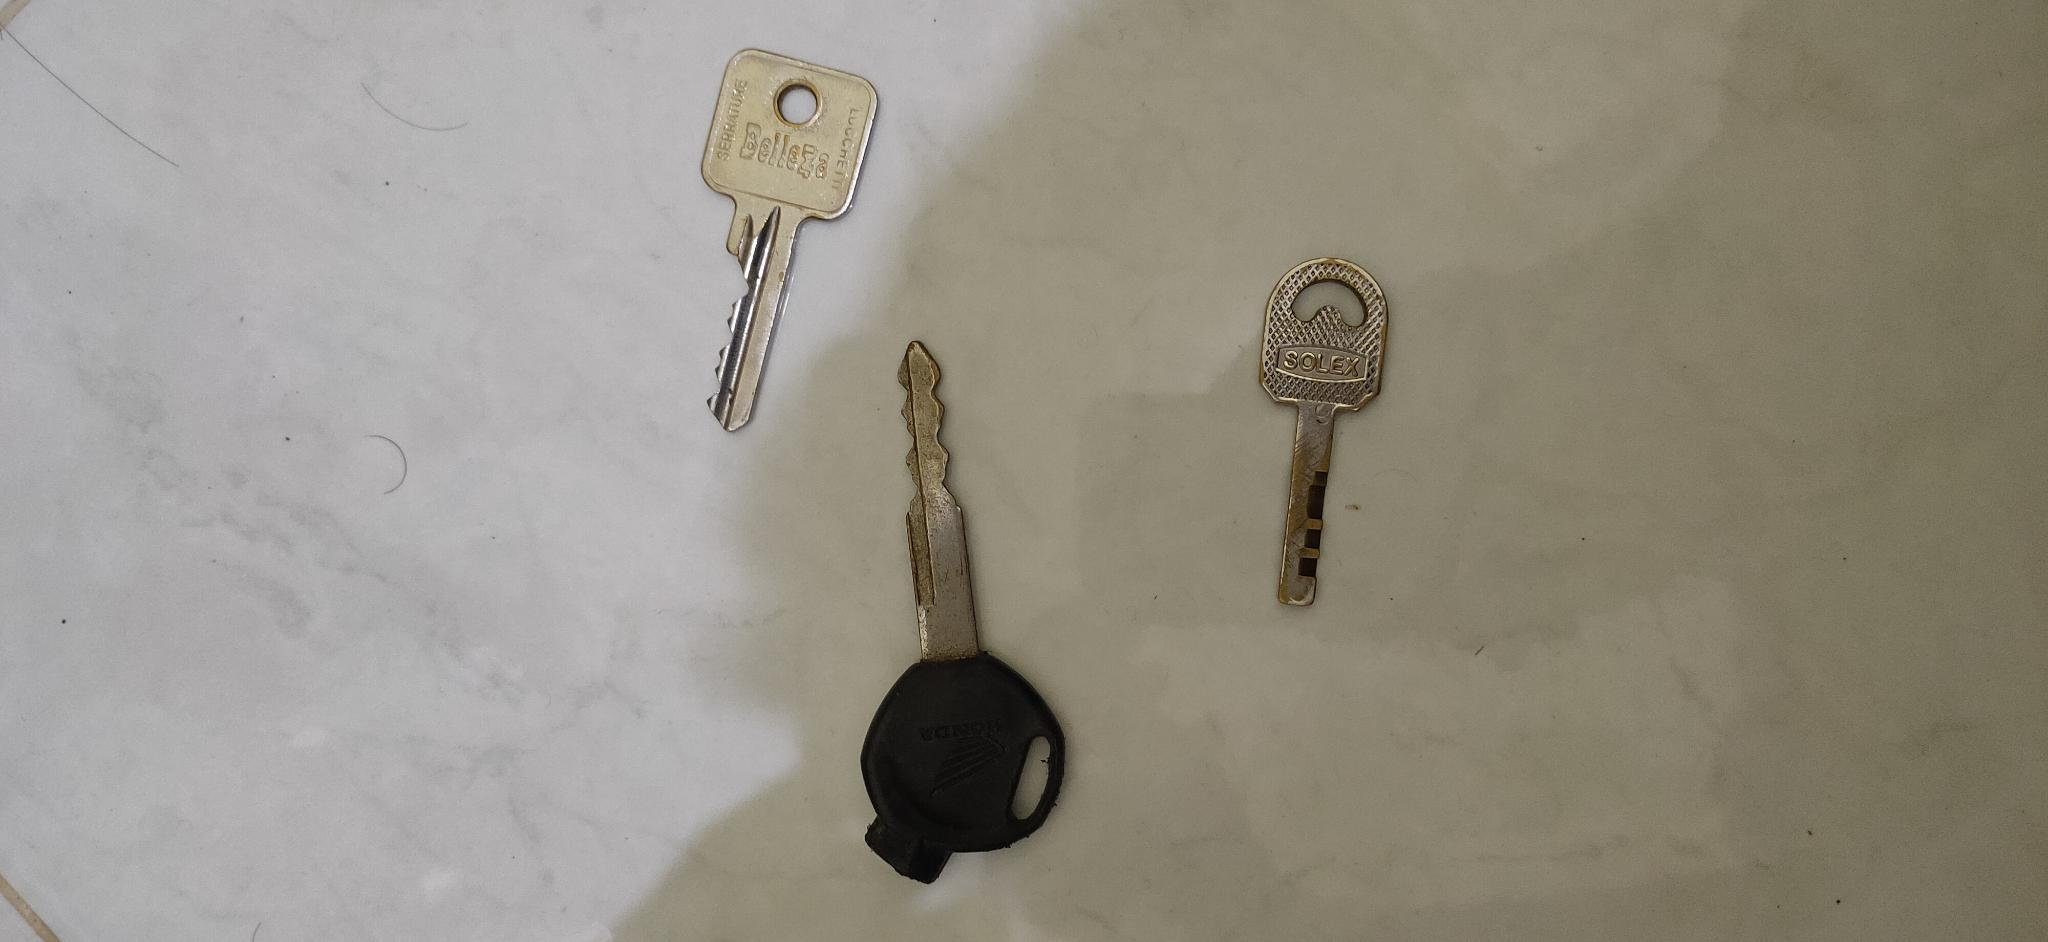keys: (850, 334, 1078, 888), (677, 44, 892, 438), (1249, 244, 1392, 611)
